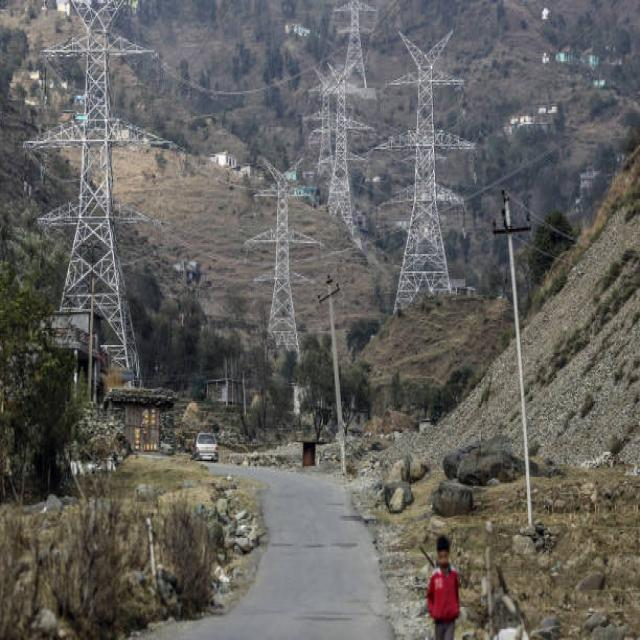LMV: (192, 433, 218, 460)
civilian: (427, 535, 459, 638)
